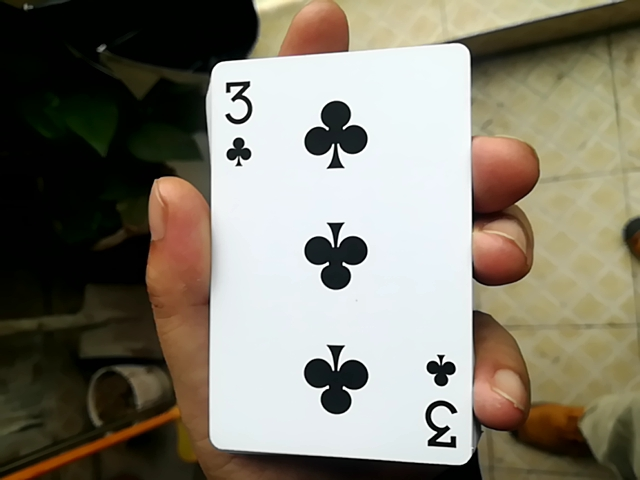mh 3: (191, 44, 475, 463)
